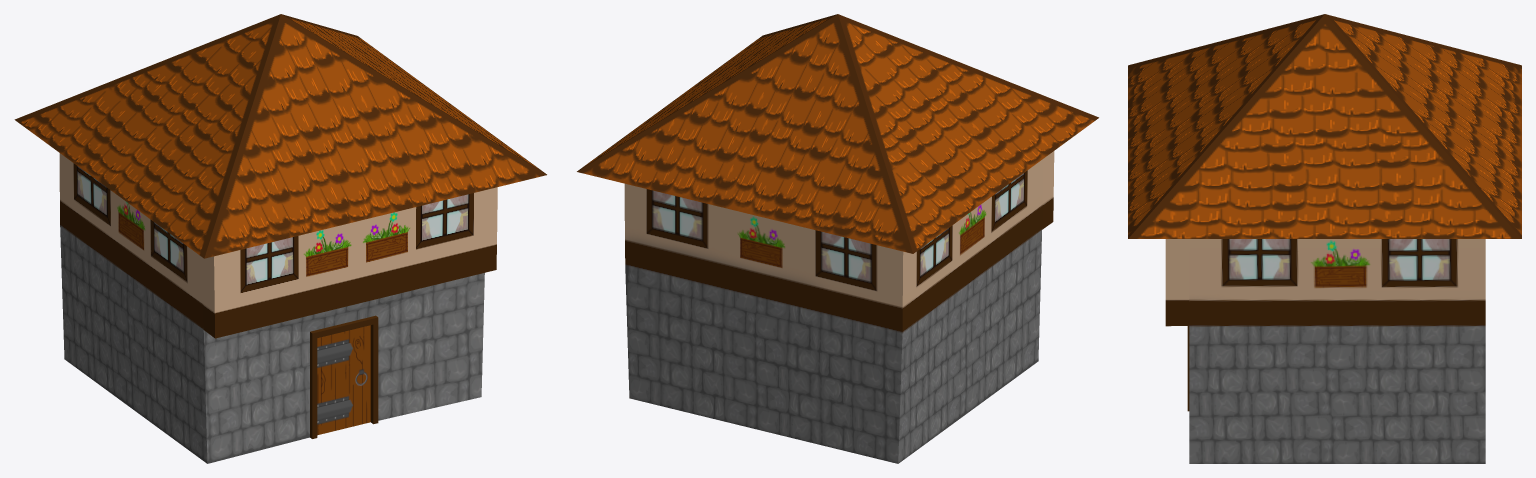
Rendered from LrgHouse3.FBX.
3 renders of one model, left to right at view 1: azimuth 30°, elevation 25°; view 2: azimuth 150°, elevation 25°; view 3: azimuth 270°, elevation 25°, orthographic. The views are drawn at different scales.
Parts seen in each view (by area): view 1: houseBase001, HousseRoof001; view 2: houseBase001, HousseRoof001; view 3: HousseRoof001, houseBase001.
Boxes of the visible parts, x1,y1,x2,y2 form: houseBase001: (59,153,497,463); HousseRoof001: (14,14,546,258); houseBase001: (624,151,1054,463); HousseRoof001: (577,14,1098,253); HousseRoof001: (1128,14,1521,238); houseBase001: (1165,239,1485,463).
Size of the model in its own units: 289 by 277 by 296.
Materials: 2 (2 with a texture image).
